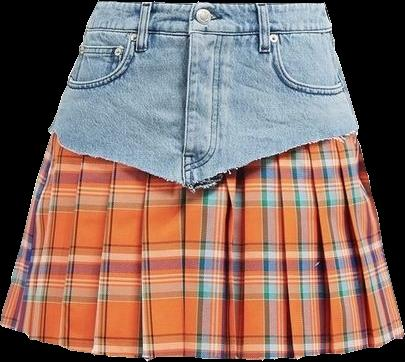Hemline: (48, 127, 359, 189), (0, 321, 404, 361)
Waistline: (84, 25, 329, 37), (97, 0, 325, 6)
